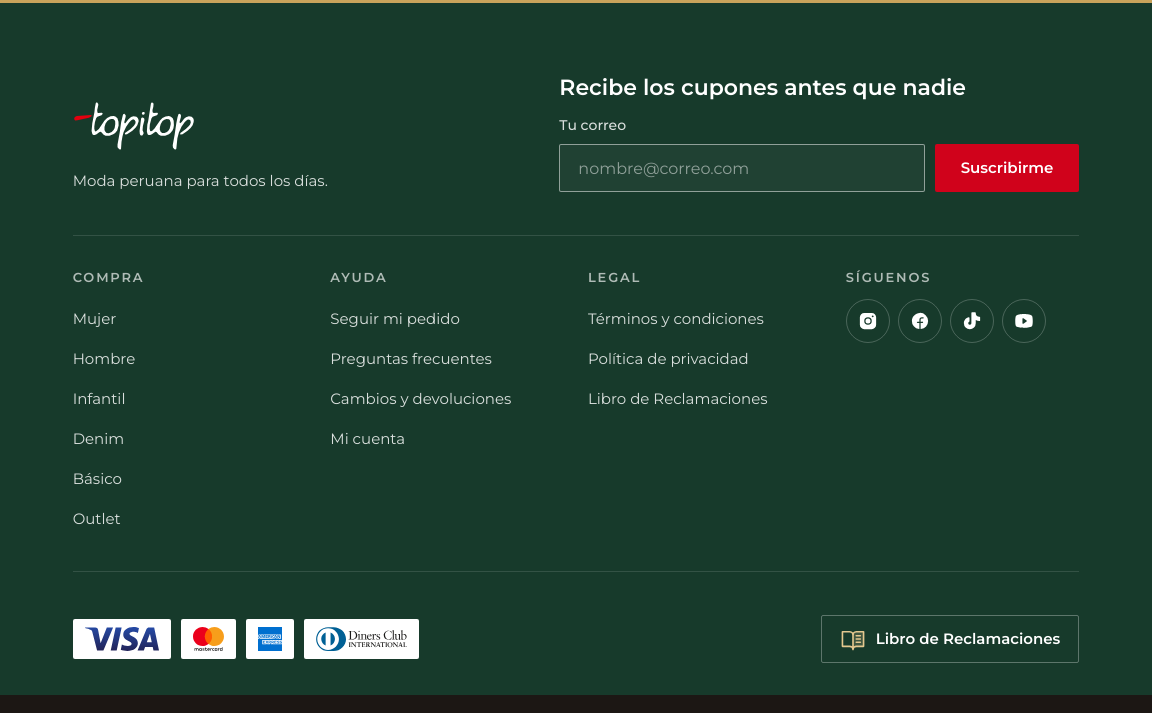
Test: SiteFooter › valida el correo de la suscripción antes de enviarlo
Type "ana@" into the field labelled "Tu correo" at x=742, y=168, box x1=559 y1=144 x2=925 y2=192
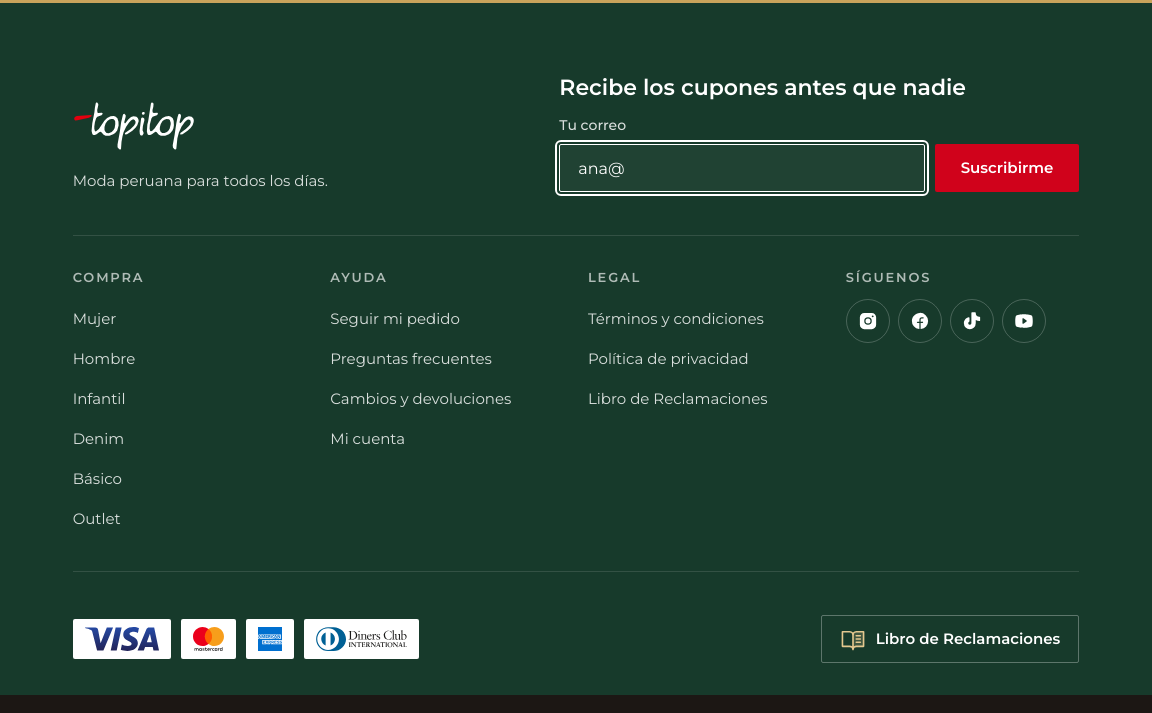
Click the button "Suscribirme" at x=1007, y=168, box x1=935 y1=144 x2=1079 y2=192
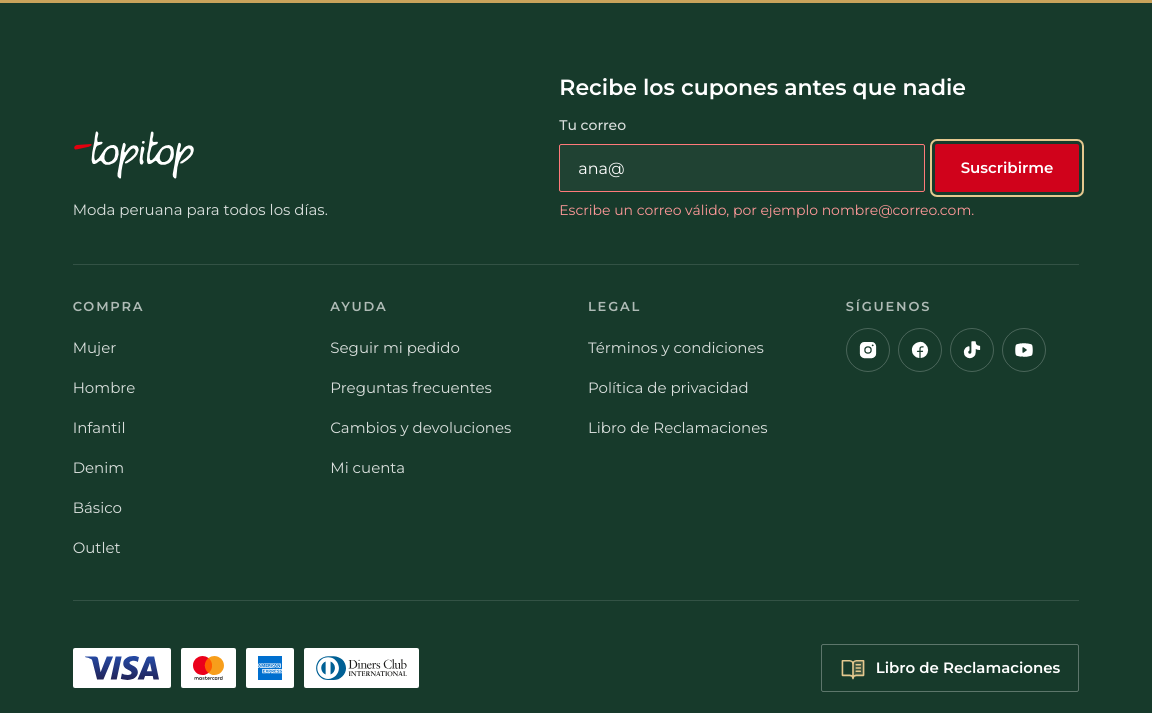
Now the message shows "Escribe un correo válido", box x1=559 y1=201 x2=974 y2=219
